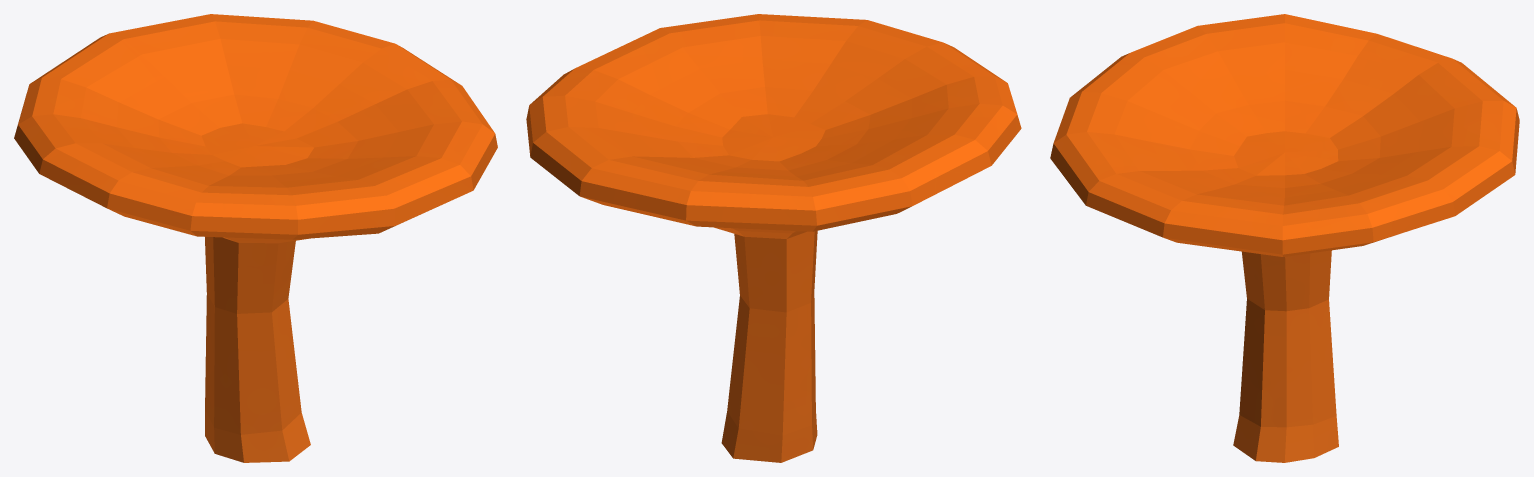
The model's file is mushroom.05.glb.
3 renders of one model, left to right at view 1: azimuth 30°, elevation 25°; view 2: azimuth 150°, elevation 25°; view 3: azimuth 270°, elevation 25°, orthographic. The views are drawn at different scales.
Parts seen in each view (by area): view 1: Sphere.007; view 2: Sphere.007; view 3: Sphere.007.
Boxes of the visible parts, x1,y1,x2,y2 form: Sphere.007: [14, 14, 497, 462]; Sphere.007: [526, 14, 1021, 462]; Sphere.007: [1050, 14, 1519, 462].
Size of the model in its own units: 0.2058 by 0.1596 by 0.2034.
1 material, 1 textured.
